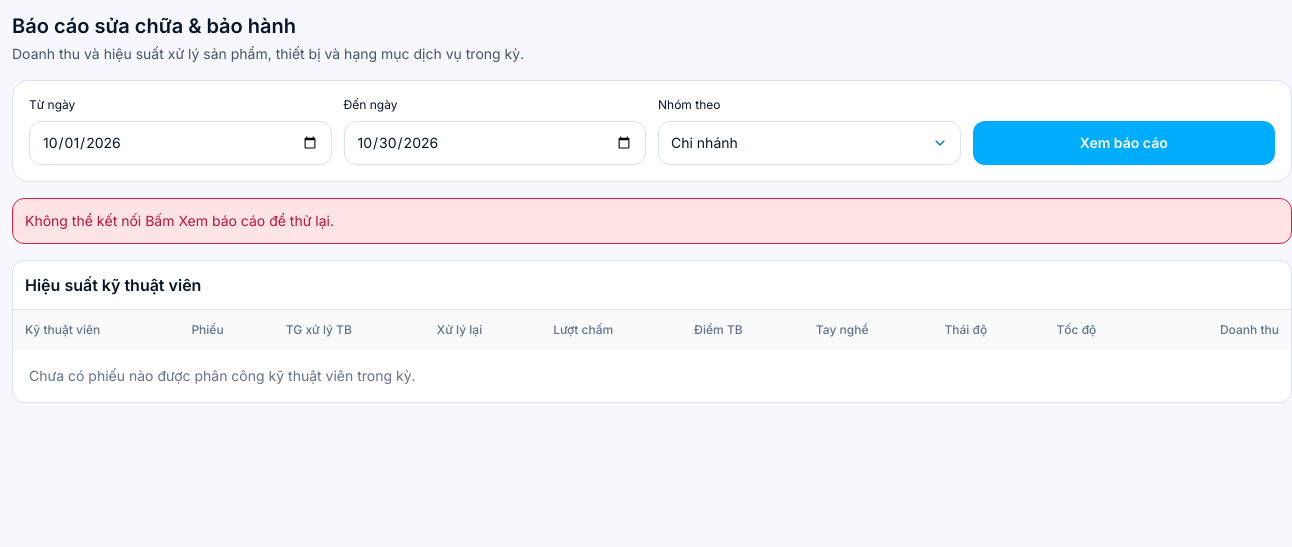
keeps report errors visible and retries without losing the existing request filters
expect the message shows "Không thể kết nối": met, box [25, 212, 141, 229]
What coordinates should you click on to do the following:
click the button "Xem báo cáo"
I would click on:
 (1124, 143)
Its box is [972, 121, 1275, 165].
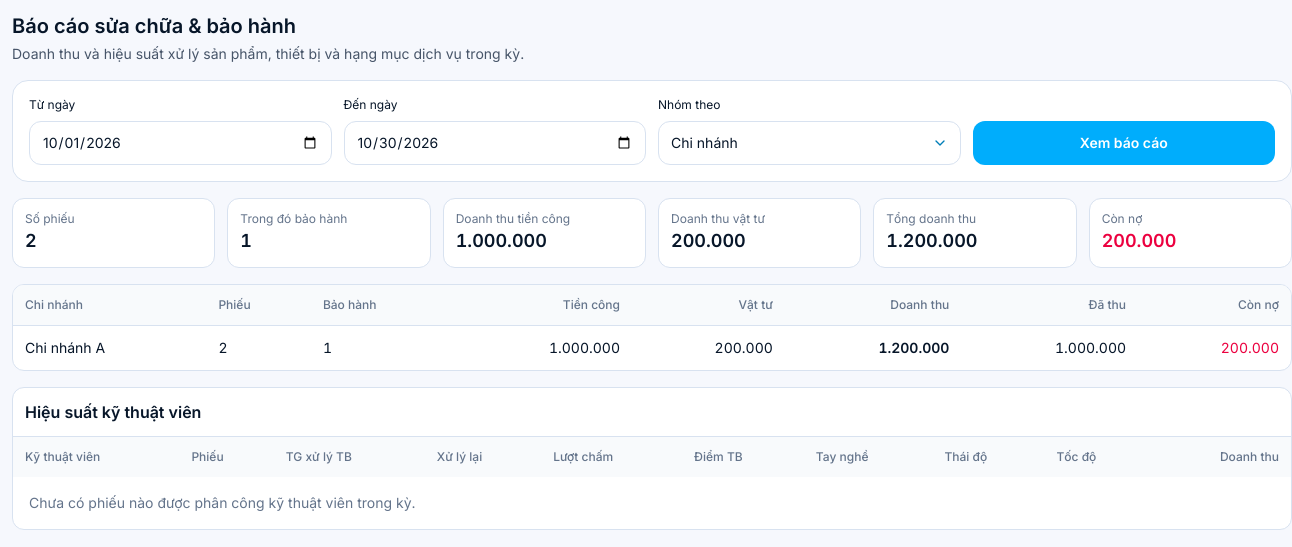
expect the text "Chi nhánh A" is shown: met, box [13, 326, 206, 370]
expect the message "Không thể kết nối Bấm Xem báo cáo để thử lại." is gone: met
expect the text "Doanh thu vật tư" is shown: met, box [671, 211, 765, 226]
